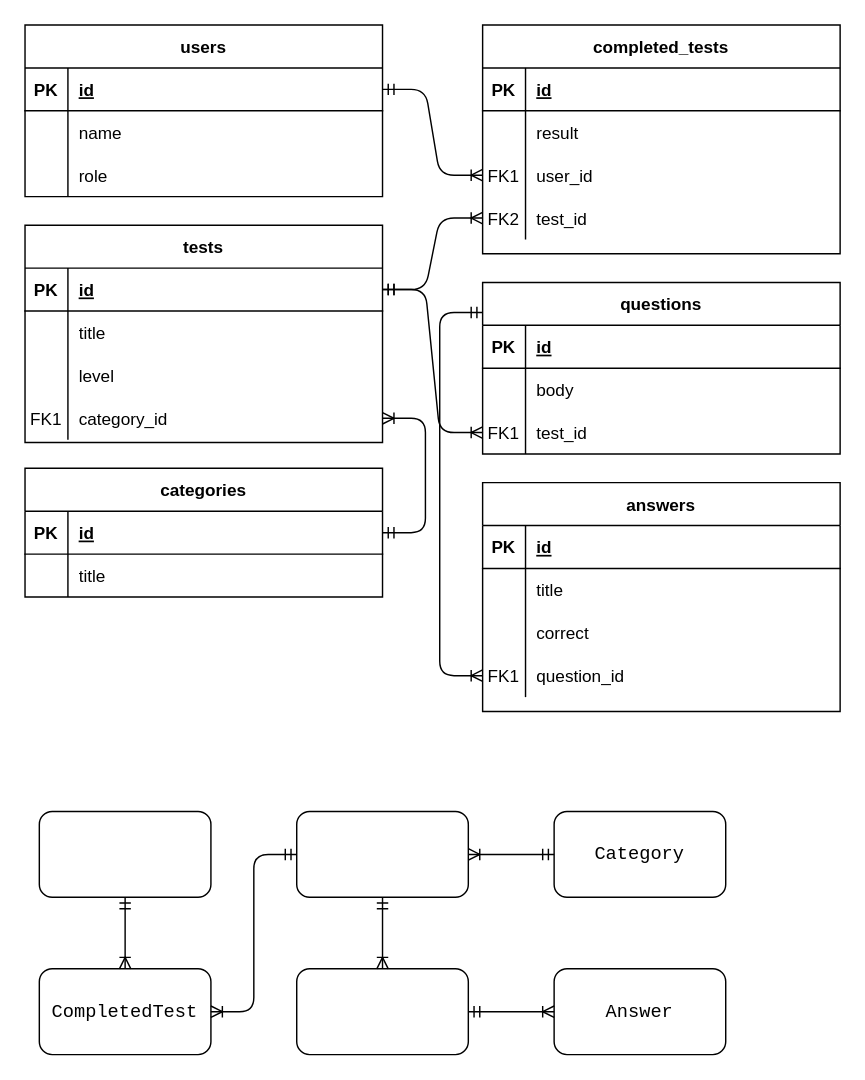
Some shapes in this 865 by 1080 pixel diagram are drawn without their labels. Each missing label, with the centre of its shape:
"Question" goes at pixel 381 1011.
"Test" goes at pixel 381 853.
"User" goes at pixel 124 853.
